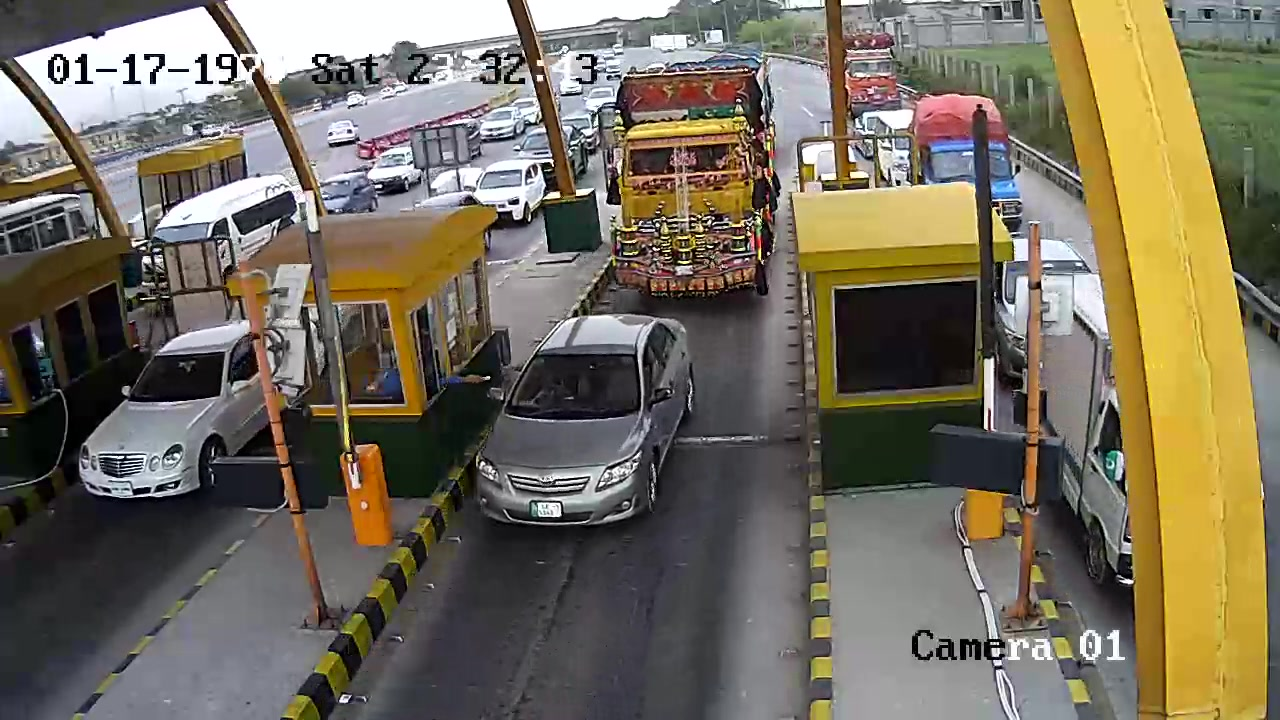F1: (475, 308, 707, 537)
F5: (608, 49, 788, 302)
